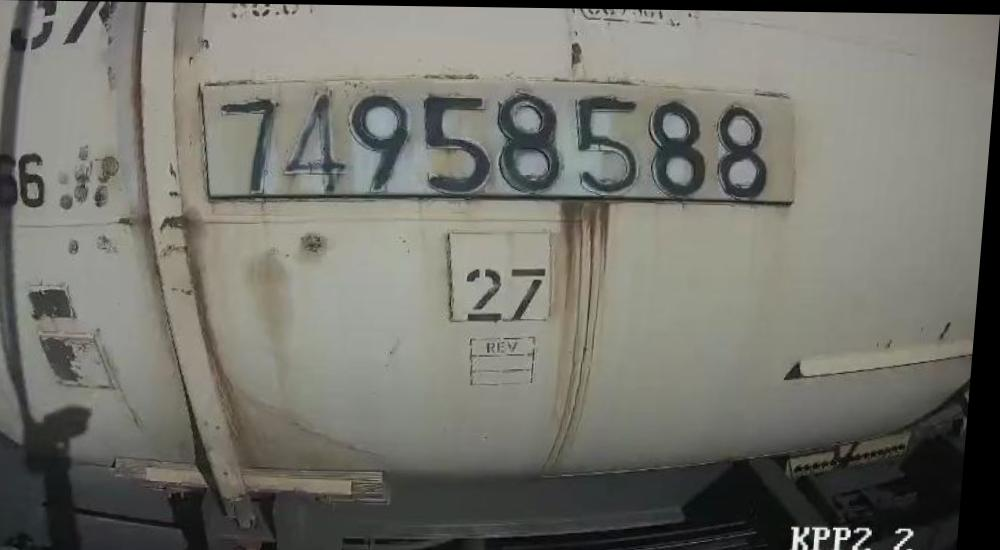Wagon-number: (201, 82, 790, 198)
